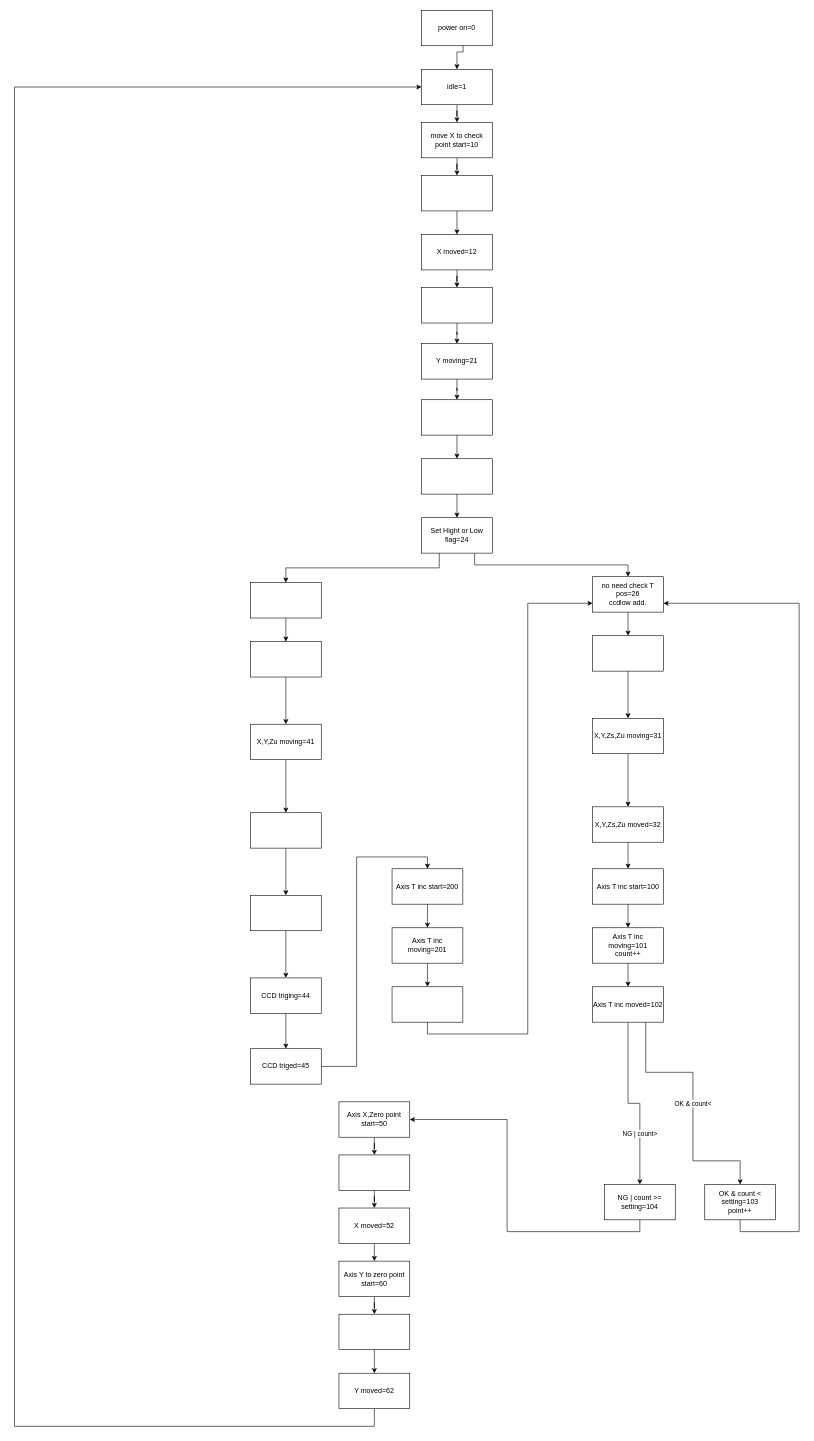
Image size: 814x1441. Some labels were removed from this diagram. The centre of each missing label's shape, as x and y in pixels:
Axis T inc moved=202 reset YH1: (427,1004)
CCD triger start=43: (285,913)
Check High or Low=23: (456,476)
move X,Y,Zs,Zu to CCD point start=30: (627,653)
move X,Y,Zu to CCD point start=40: (285,659)
move Y to check point start=20: (456,305)
need check T pos=25: (285,600)
X moving=11: (456,193)
X moving=51: (374,1172)
X,Y,Zu moved=42: (285,830)
Y moved=22: (456,417)
Y moving=61: (374,1332)
